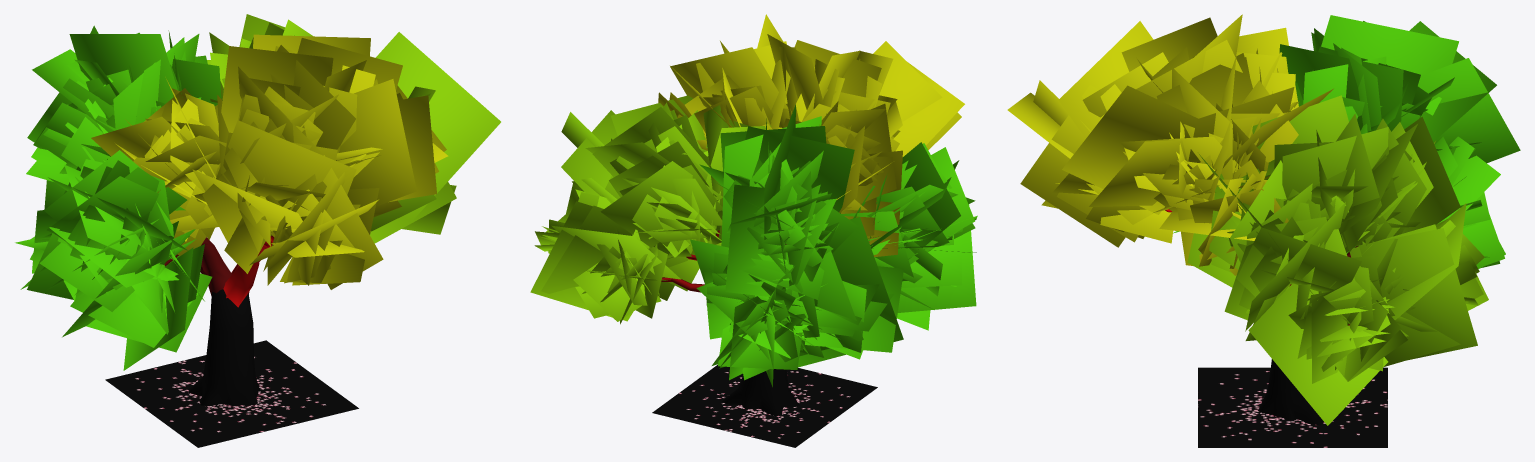
Rendered from BigTree.fbx.
3 renders of one model, left to right at view 1: azimuth 30°, elevation 25°; view 2: azimuth 150°, elevation 25°; view 3: azimuth 270°, elevation 25°, orthographic. The views are drawn at different scales.
Parts seen in each view (by area): view 1: BigTree, GroundPetals; view 2: BigTree, GroundPetals; view 3: BigTree, GroundPetals.
Part boxes in pixels (x1,y1,x2,y2): BigTree: (15,14,500,406); GroundPetals: (105,340,358,447); BigTree: (530,14,977,416); GroundPetals: (652,365,877,447); BigTree: (1007,14,1520,425); GroundPetals: (1198,367,1387,447).
Bounding box in the file's own units: 14.42 × 11.04 × 13.52.
